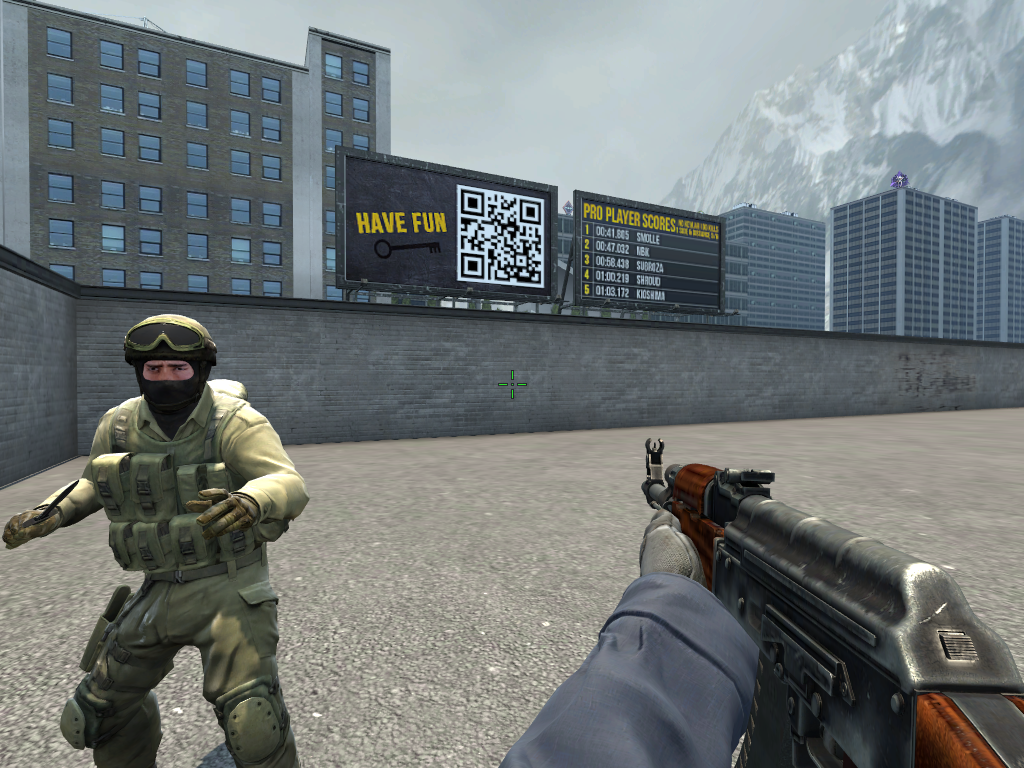ct head: (133, 322, 208, 408)
